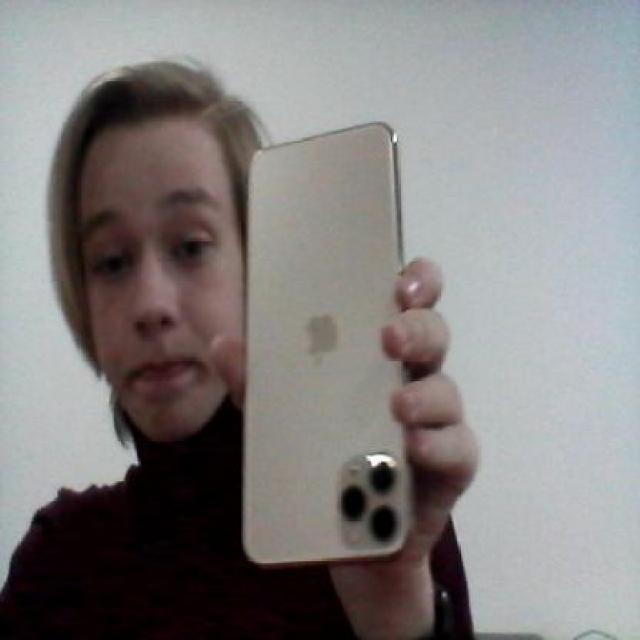phone: (238, 120, 420, 568)
